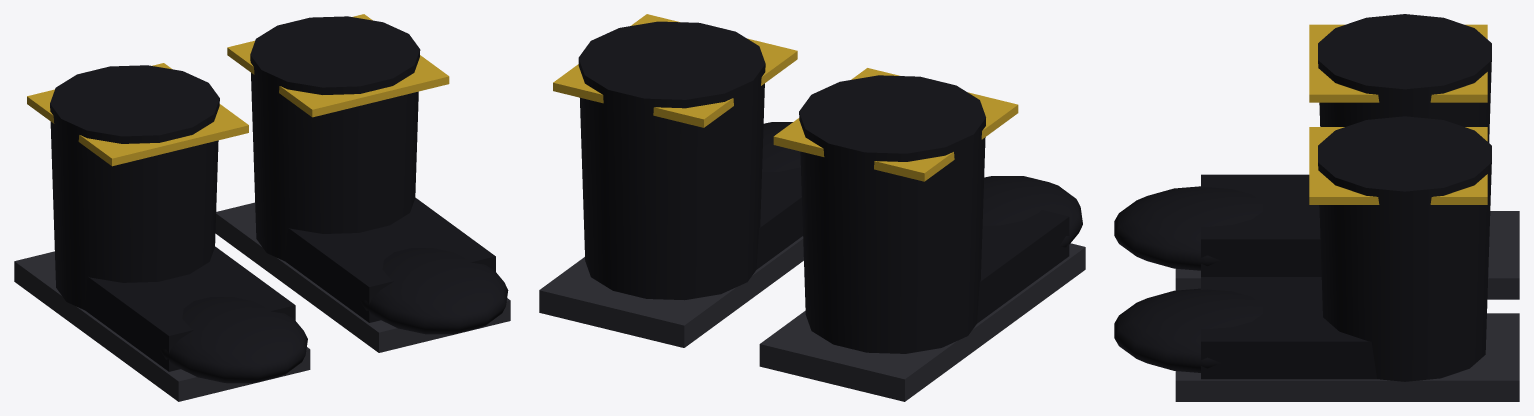
The model's file is shoes_ancient_3.glb.
3 views of the same model, side by side, from view 1: azimuth 30°, elevation 25°; view 2: azimuth 150°, elevation 25°; view 3: azimuth 270°, elevation 25° (orthographic). The views are drawn at different scales.
Size of the model in its own units: 0.3696 by 0.208 by 0.3563.
